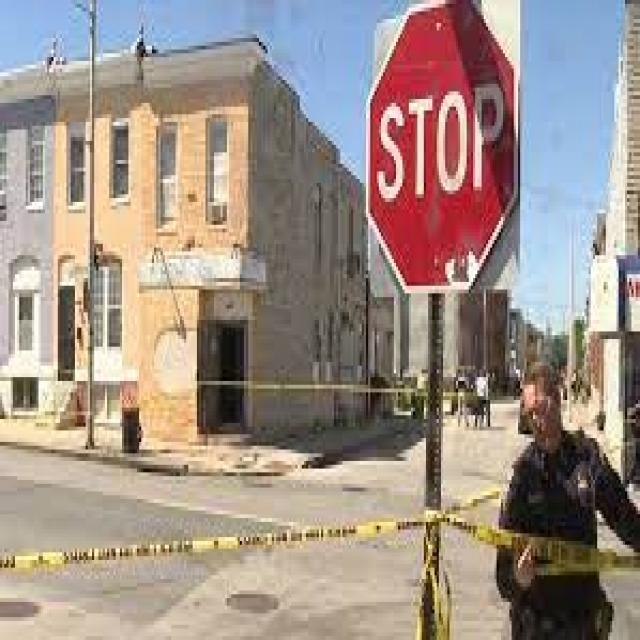stop-sign: (354, 28, 538, 307)
